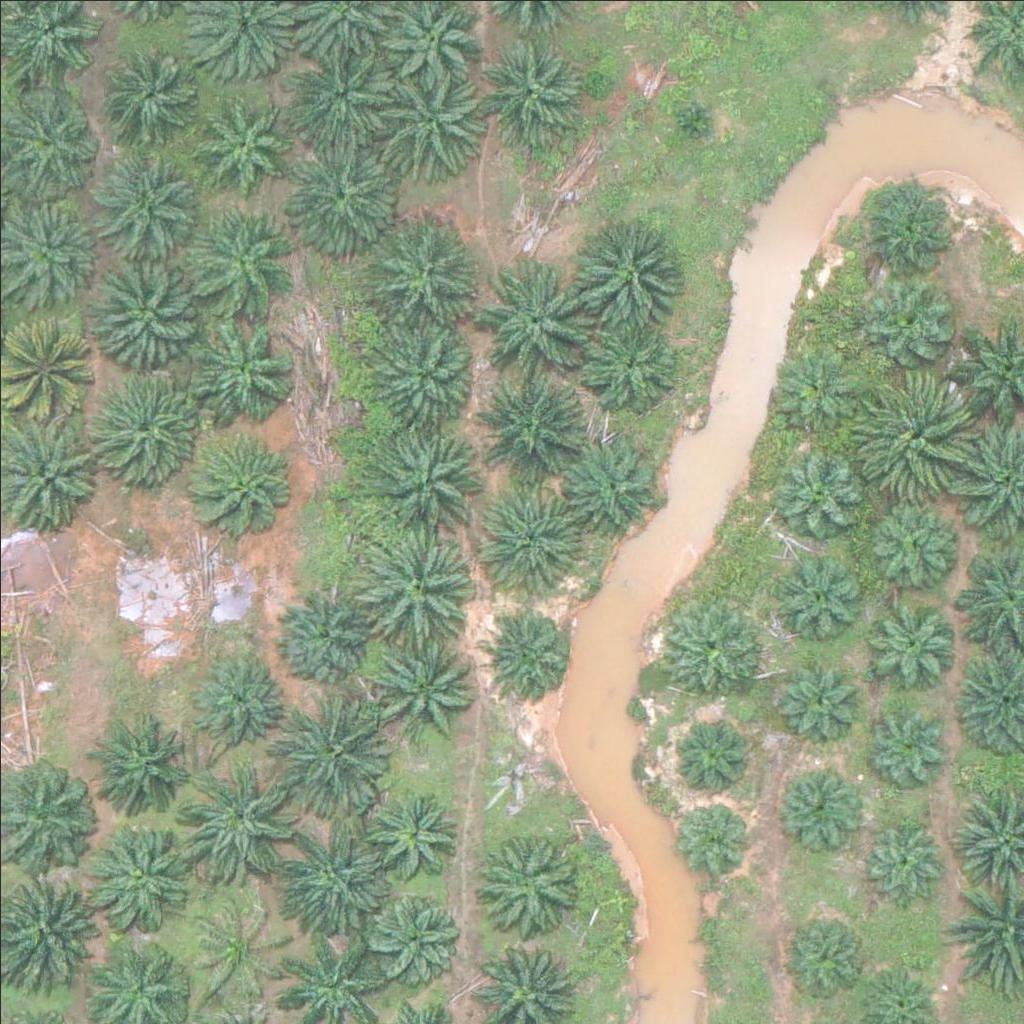Kelapa_Sawit: (362, 322, 475, 436), (274, 694, 387, 808), (371, 417, 484, 531), (473, 481, 586, 595), (87, 250, 200, 363), (185, 308, 298, 421), (574, 211, 687, 324), (273, 821, 386, 934), (857, 381, 970, 494), (183, 202, 295, 316), (80, 819, 192, 933), (185, 430, 297, 544), (475, 373, 587, 487), (282, 128, 394, 241), (371, 220, 483, 333), (371, 72, 483, 185), (483, 263, 595, 376), (99, 368, 211, 481), (182, 765, 294, 878), (361, 641, 473, 754), (357, 527, 469, 640), (2, 203, 102, 304), (94, 146, 194, 247), (193, 91, 293, 192), (580, 313, 680, 414), (184, 904, 284, 1005), (277, 586, 377, 687), (367, 886, 467, 987), (363, 790, 463, 891), (474, 834, 574, 935), (661, 601, 761, 702), (769, 540, 869, 641), (561, 433, 661, 534), (102, 33, 202, 133), (291, 44, 391, 144), (480, 36, 580, 136), (859, 179, 959, 279), (91, 714, 191, 814), (188, 641, 288, 741), (859, 495, 959, 595), (855, 591, 955, 691), (867, 284, 955, 372), (784, 910, 872, 998), (770, 349, 858, 437), (861, 700, 949, 788), (486, 613, 573, 701), (863, 814, 950, 902), (774, 757, 861, 845), (667, 711, 754, 799), (773, 441, 860, 529), (778, 662, 865, 750), (676, 796, 751, 872), (672, 98, 722, 149)
